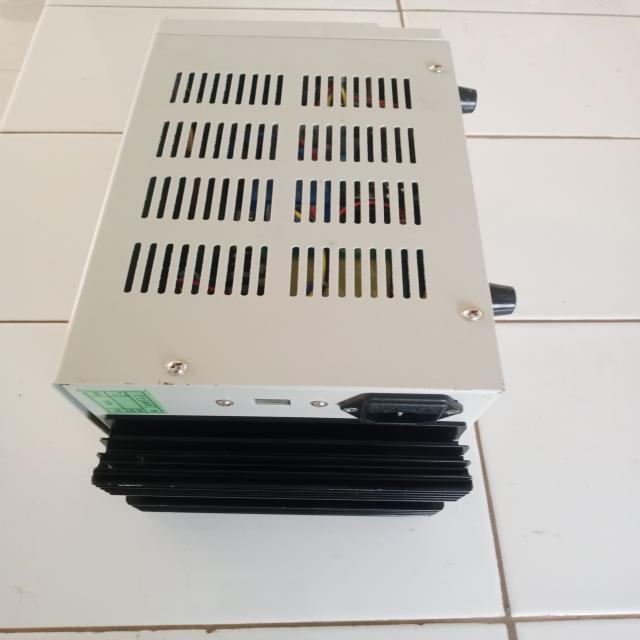Digital Power Supply: (50, 12, 516, 528)
